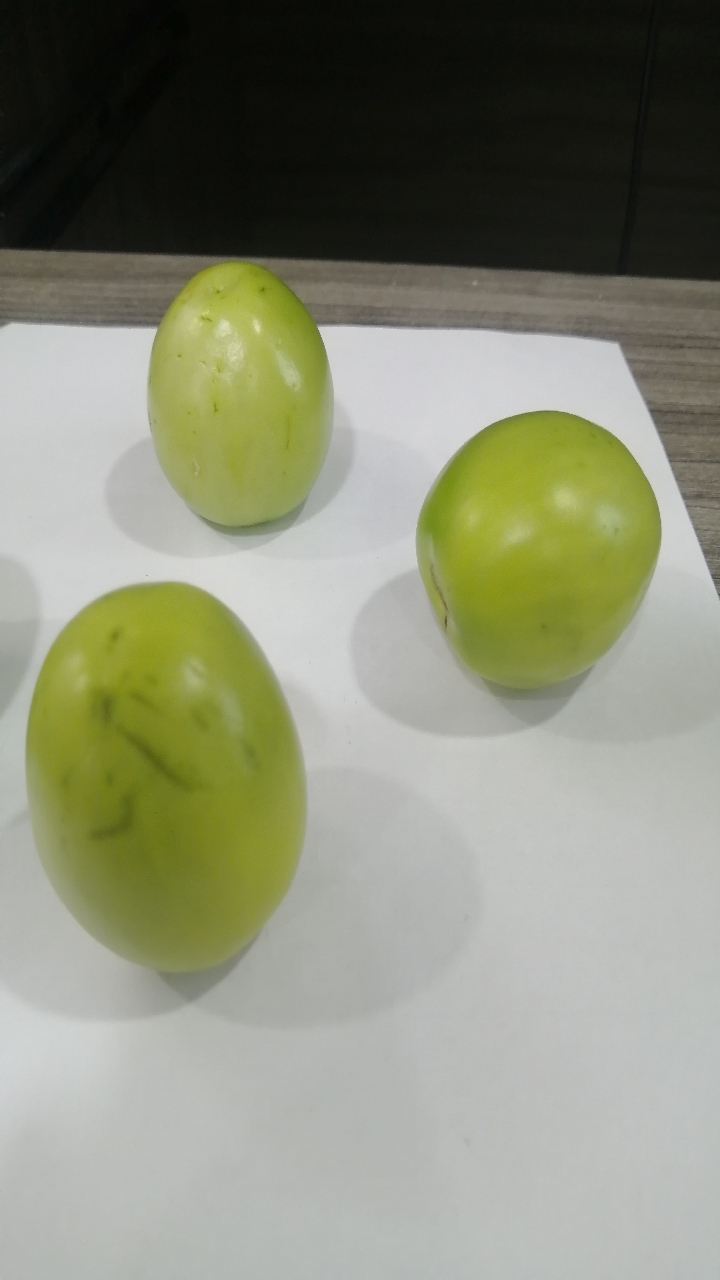tomateVerde: (12, 568, 315, 1008), (406, 382, 661, 723), (103, 232, 352, 552)
